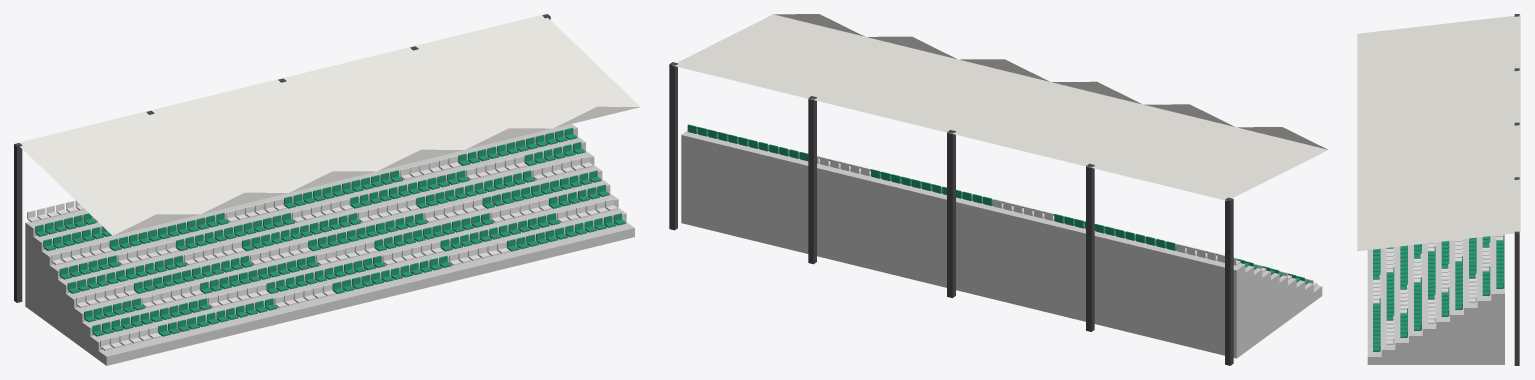
The model's file is SM_Grandstand.fbx.
The picture shows the model from 3 angles, left to right: view 1: azimuth 30°, elevation 25°; view 2: azimuth 150°, elevation 25°; view 3: azimuth 270°, elevation 25°; orthographic projection. The views are drawn at different scales.
Visible parts, largest first — view 1: SM_Grandstand; view 2: SM_Grandstand; view 3: SM_Grandstand.
Boxes of the visible parts, x1=… form: SM_Grandstand: x1=14, y1=14, x2=640, y2=365; SM_Grandstand: x1=669, y1=14, x2=1328, y2=365; SM_Grandstand: x1=1357, y1=14, x2=1520, y2=365.
Size of the model in its own units: 3030 by 850 by 950.
